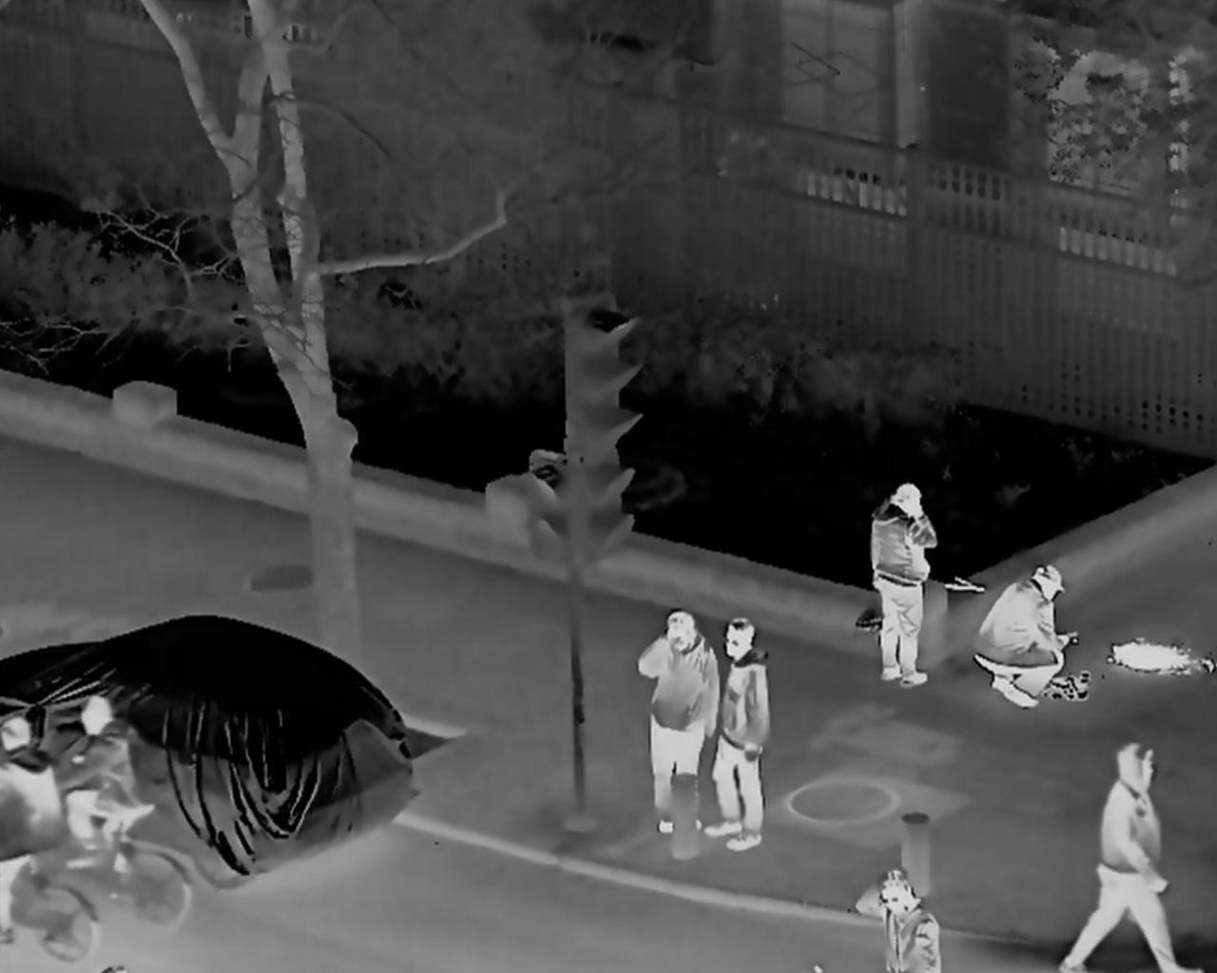person: (1059, 741, 1199, 973), (51, 701, 156, 874), (641, 611, 720, 836), (863, 480, 937, 690), (968, 562, 1073, 705), (3, 715, 63, 944), (713, 619, 770, 854), (849, 869, 948, 973)
